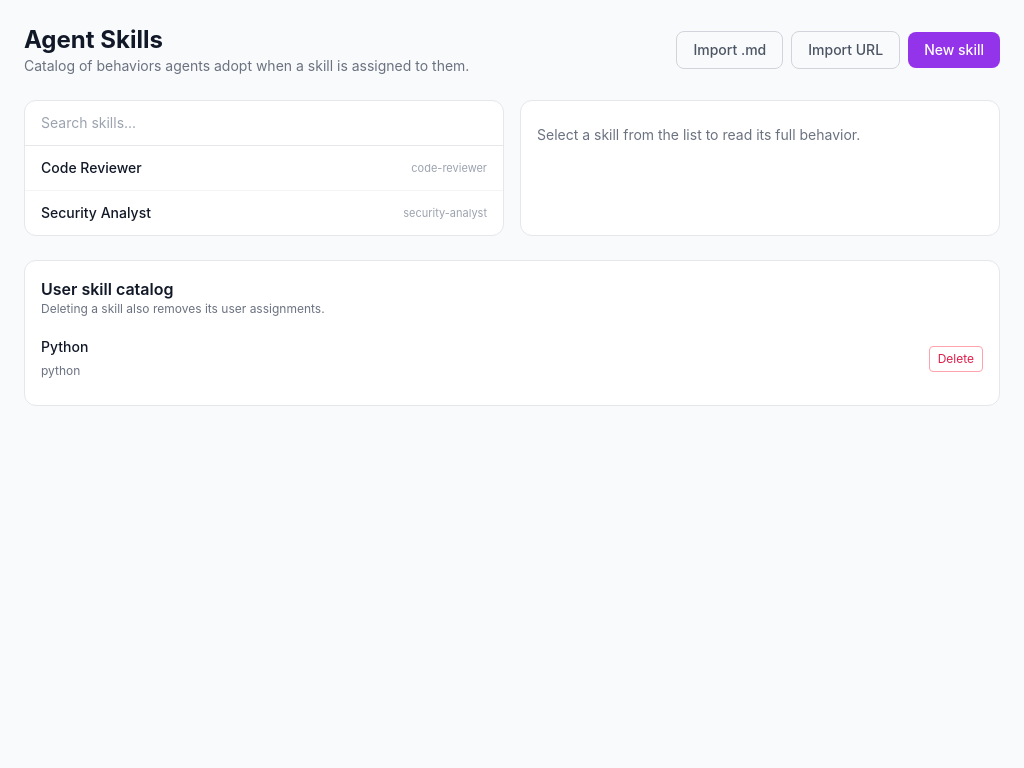
AgentSkillsView (issue #610) › creates a skill through POST and refreshes the list
The width and height of the screenshot is (1024, 768).
Click the button "New skill" at (954, 50), box [908,32,1000,68]
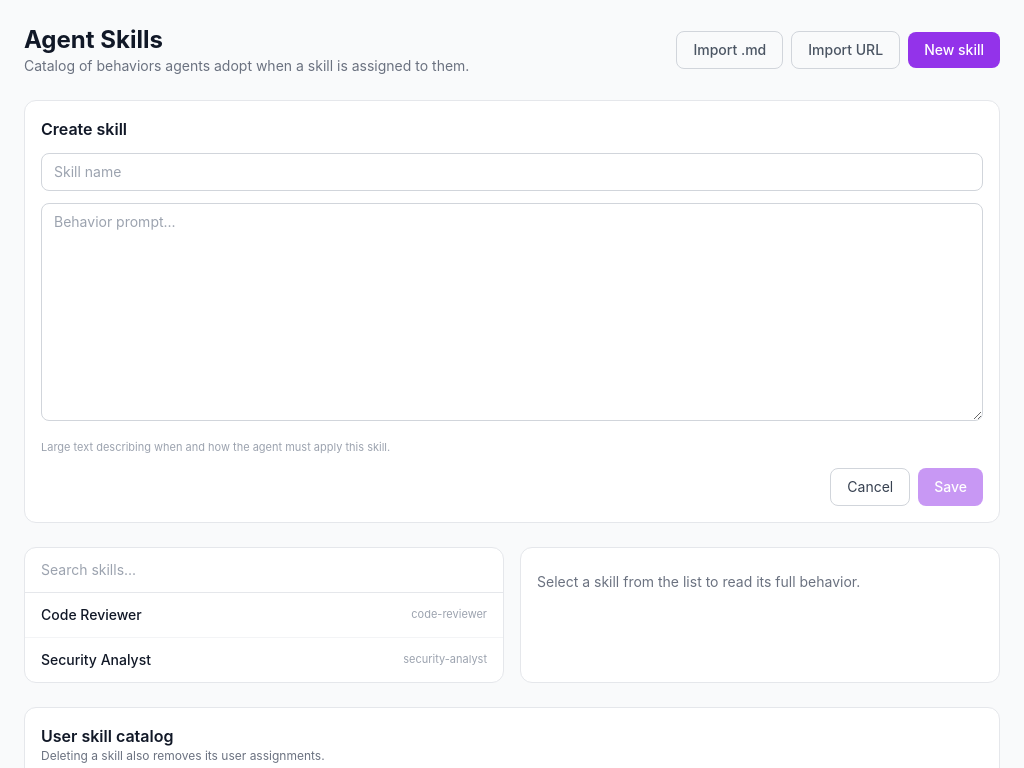
Type "QA Bot" into the field with placeholder "Skill name" at (512, 172), box [41,153,983,191]
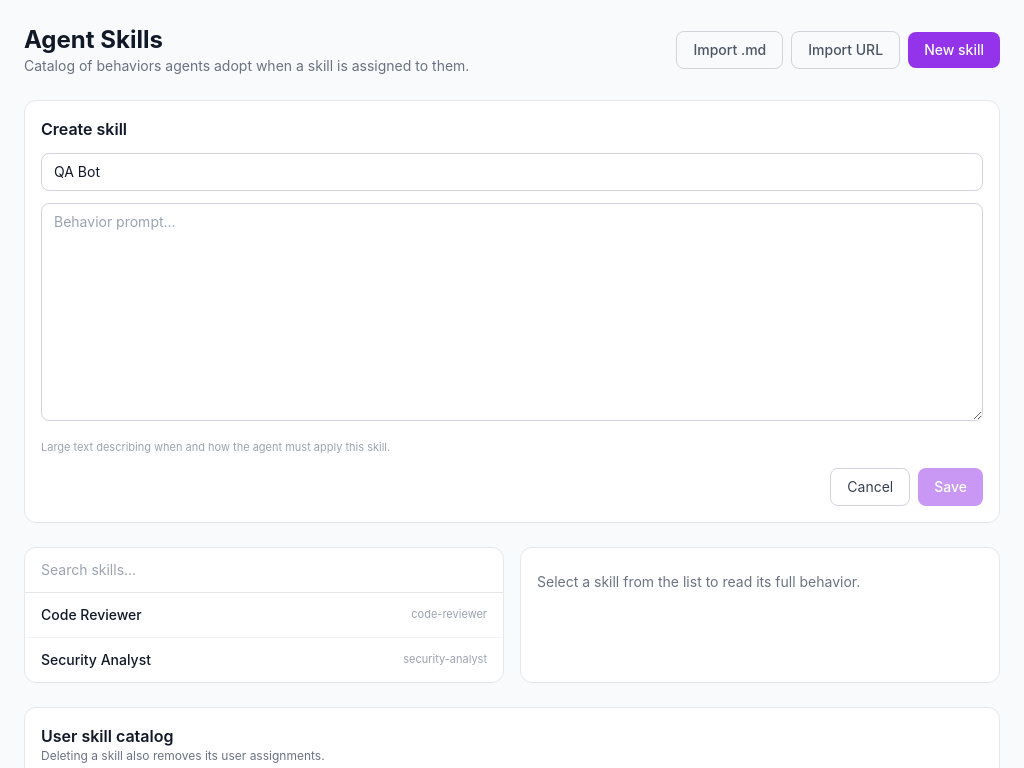
Type "Test everything twice." into the text box with placeholder "Behavior prompt..." at (512, 312), box [41,203,983,421]
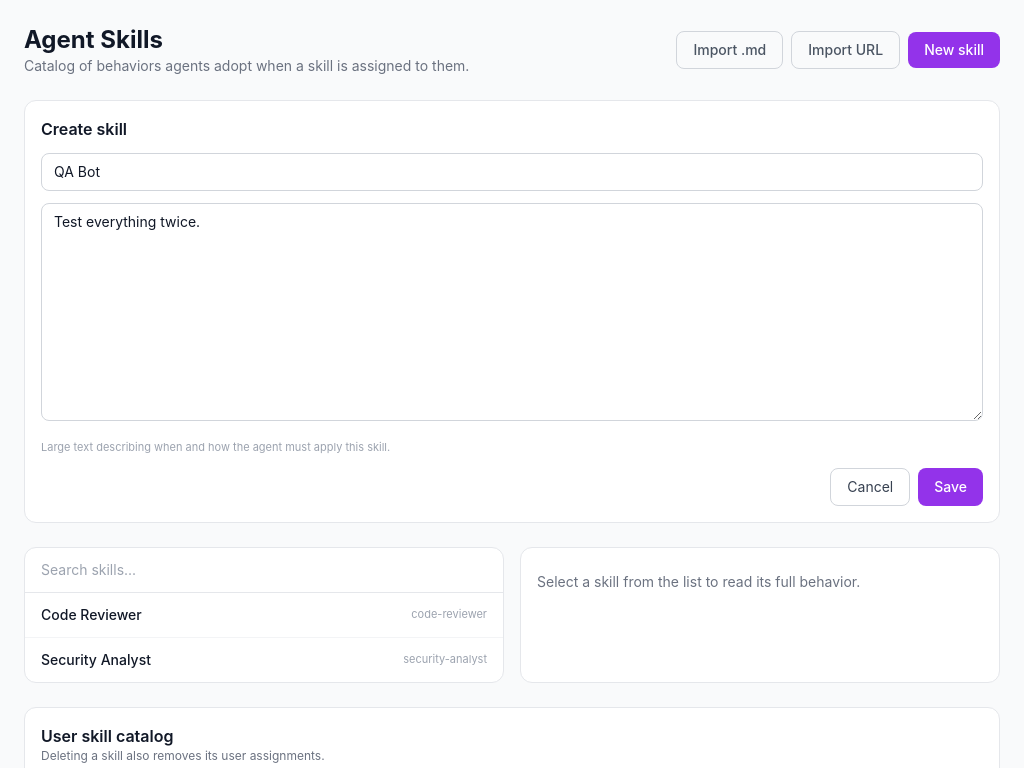
Click the button "Save" at (951, 486), box [918,468,983,506]
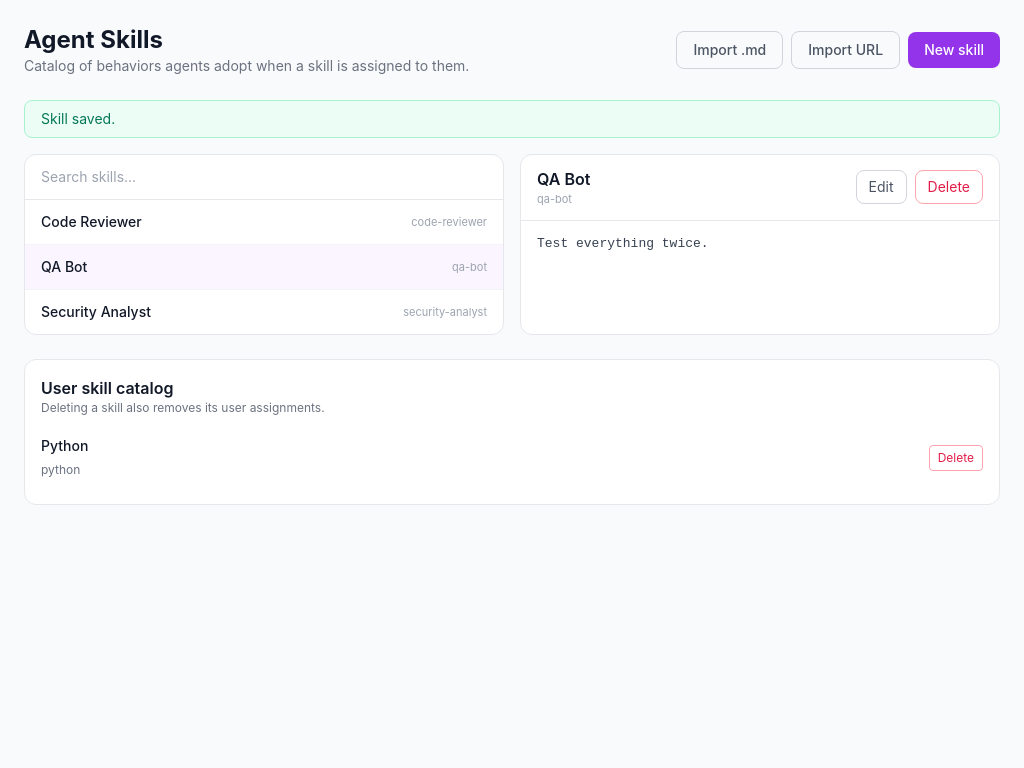
expect the text "Skill saved." is shown: met, box [24,100,1000,138]
expect the text "QA Bot" is shown: met, box [41,257,87,277]
